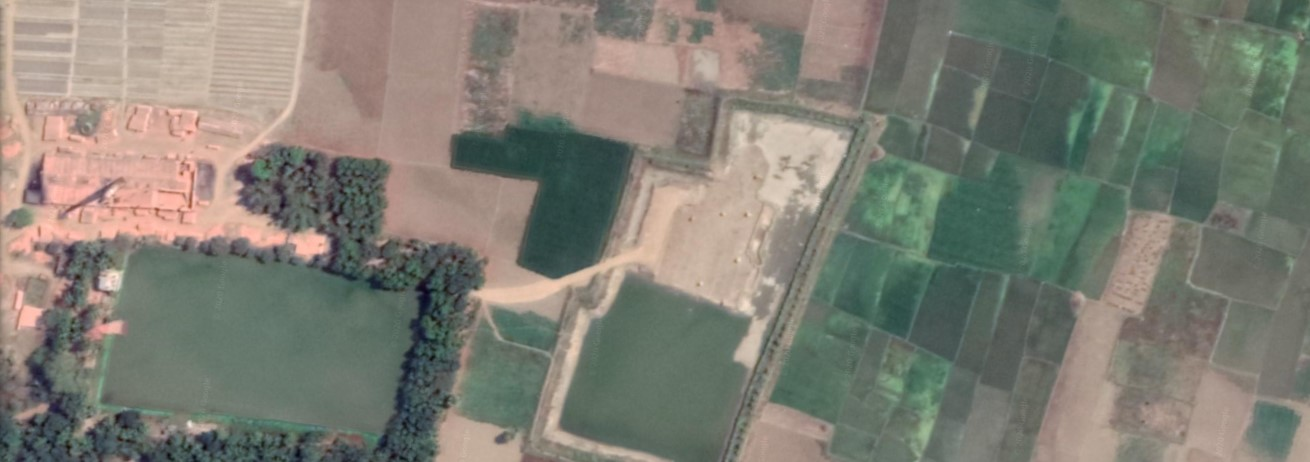kiln: (35, 154, 212, 227)
